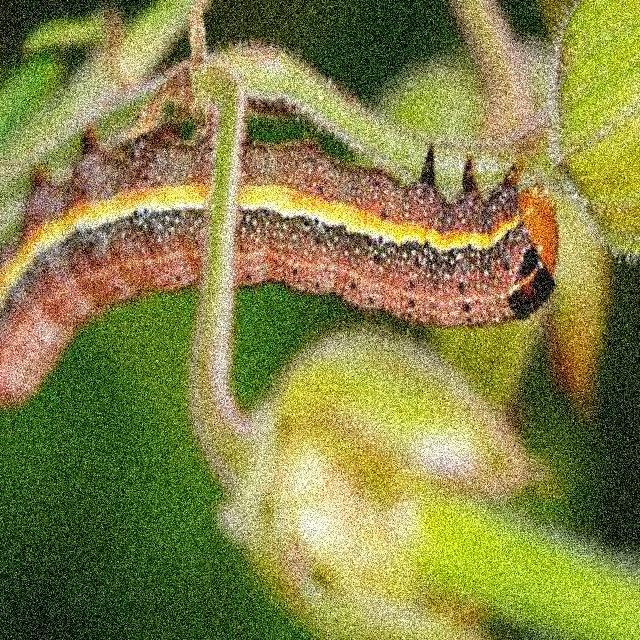worm: (1, 107, 560, 410)
